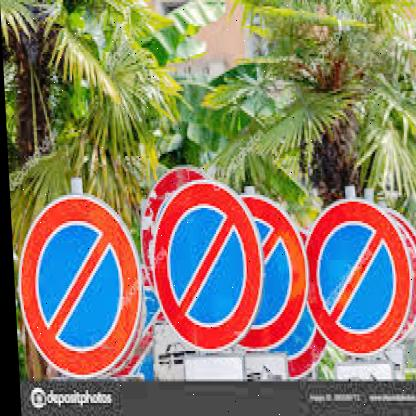No parking: (8, 194, 140, 377), (151, 178, 261, 364), (295, 198, 406, 360)
